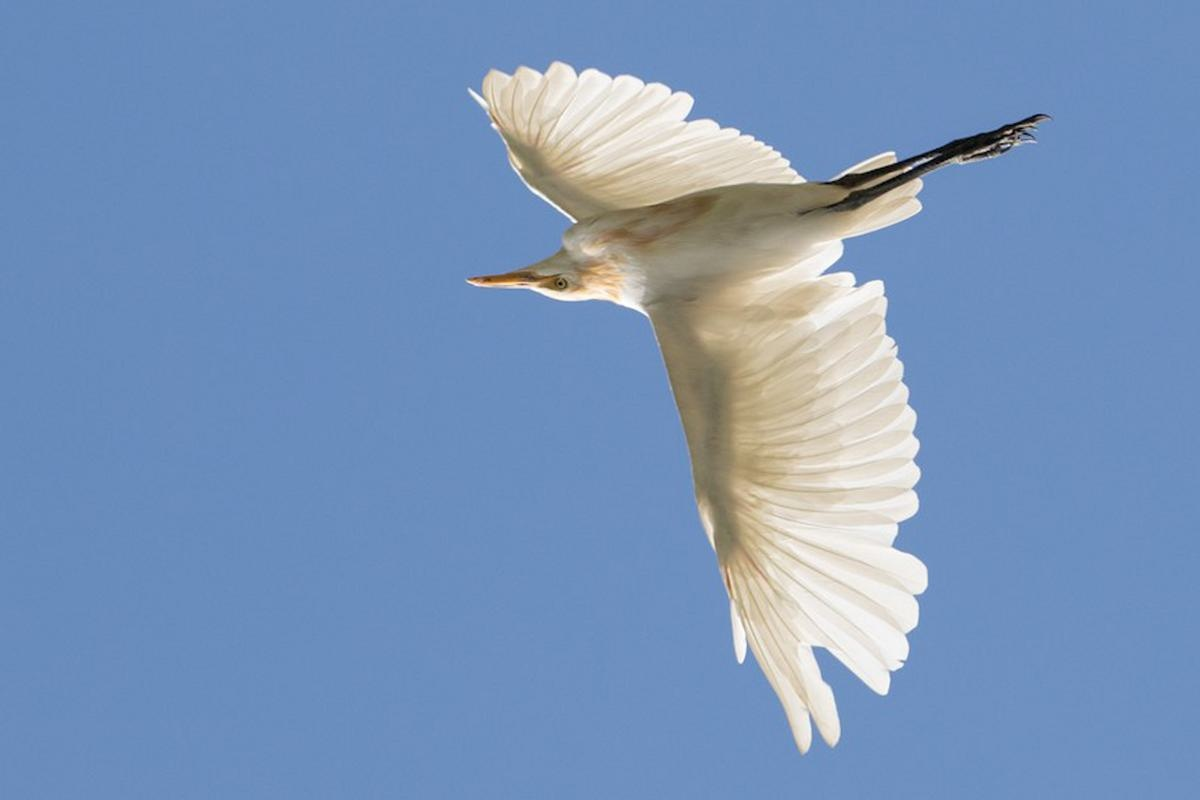egret: (421, 24, 1045, 749)
